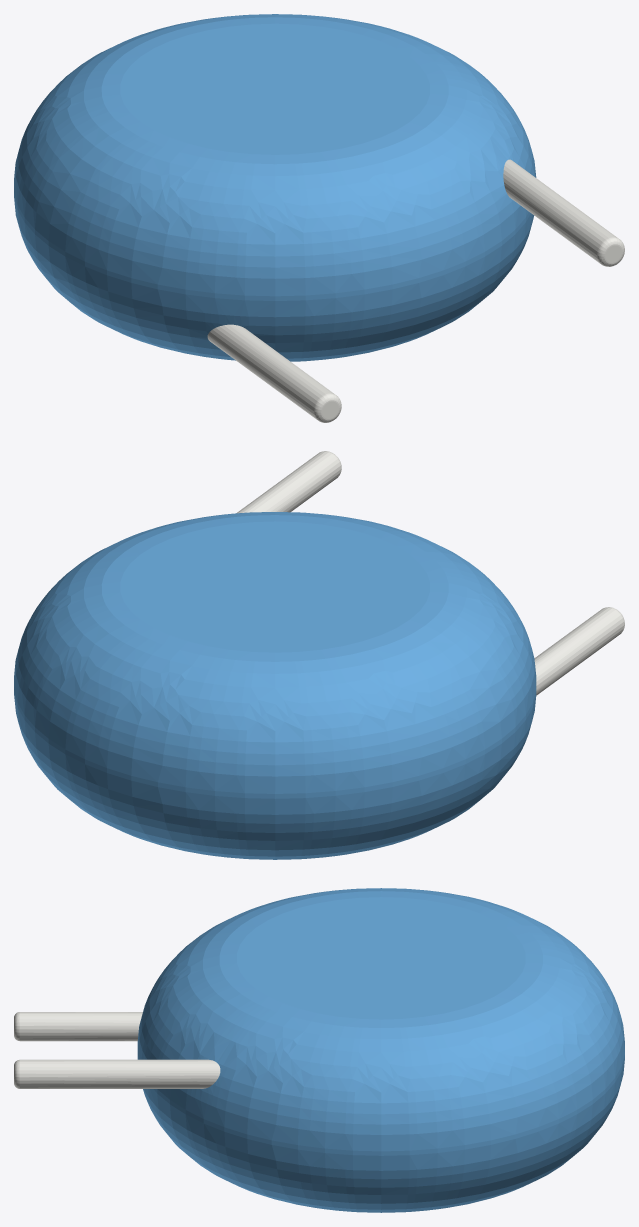
Rendered from RV_Disc_D12mm_W5mm_P7.5mm.glb.
3 views of the same model, one above another, from view 1: azimuth 30°, elevation 25°; view 2: azimuth 150°, elevation 25°; view 3: azimuth 270°, elevation 25° (orthographic). The views are drawn at different scales.
Visible parts, largest first — view 1: Shape_IndexedFaceSet.001, Shape_IndexedFaceSet.003, Shape_IndexedFaceSet.002, Shape_IndexedFaceSet.006, Shape_IndexedFaceSet.004, Shape_IndexedFaceSet; view 2: Shape_IndexedFaceSet.001, Shape_IndexedFaceSet.003, Shape_IndexedFaceSet.002, Shape_IndexedFaceSet.006, Shape_IndexedFaceSet, Shape_IndexedFaceSet.004; view 3: Shape_IndexedFaceSet.001, Shape_IndexedFaceSet.003, Shape_IndexedFaceSet.002, Shape_IndexedFaceSet.004, Shape_IndexedFaceSet.006, Shape_IndexedFaceSet.
Part boxes in pixels (x1,y1,x2,y2): Shape_IndexedFaceSet.001: [14, 14, 536, 296]; Shape_IndexedFaceSet.003: [120, 23, 429, 154]; Shape_IndexedFaceSet.002: [14, 197, 534, 361]; Shape_IndexedFaceSet.006: [207, 324, 334, 419]; Shape_IndexedFaceSet.004: [503, 159, 617, 263]; Shape_IndexedFaceSet: [14, 193, 530, 300]; Shape_IndexedFaceSet.001: [14, 512, 536, 793]; Shape_IndexedFaceSet.003: [120, 521, 429, 652]; Shape_IndexedFaceSet.002: [14, 695, 536, 859]; Shape_IndexedFaceSet.006: [534, 607, 623, 695]; Shape_IndexedFaceSet: [14, 690, 536, 798]; Shape_IndexedFaceSet.004: [236, 451, 340, 513]; Shape_IndexedFaceSet.001: [137, 888, 624, 1151]; Shape_IndexedFaceSet.003: [237, 897, 525, 1019]; Shape_IndexedFaceSet.002: [143, 1059, 624, 1212]; Shape_IndexedFaceSet.004: [20, 1059, 220, 1088]; Shape_IndexedFaceSet.006: [20, 1012, 142, 1041]; Shape_IndexedFaceSet: [137, 1055, 624, 1155].
Size of the model in its own units: 4.72 by 1.97 by 5.91.
